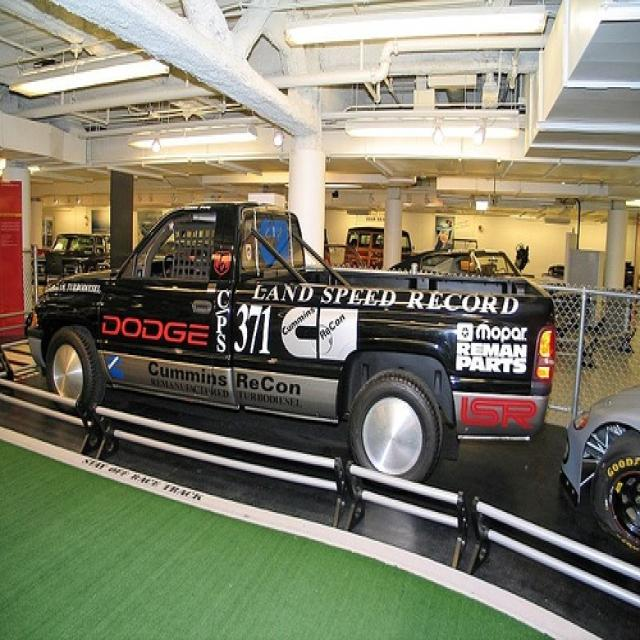car: (24, 194, 553, 490)
